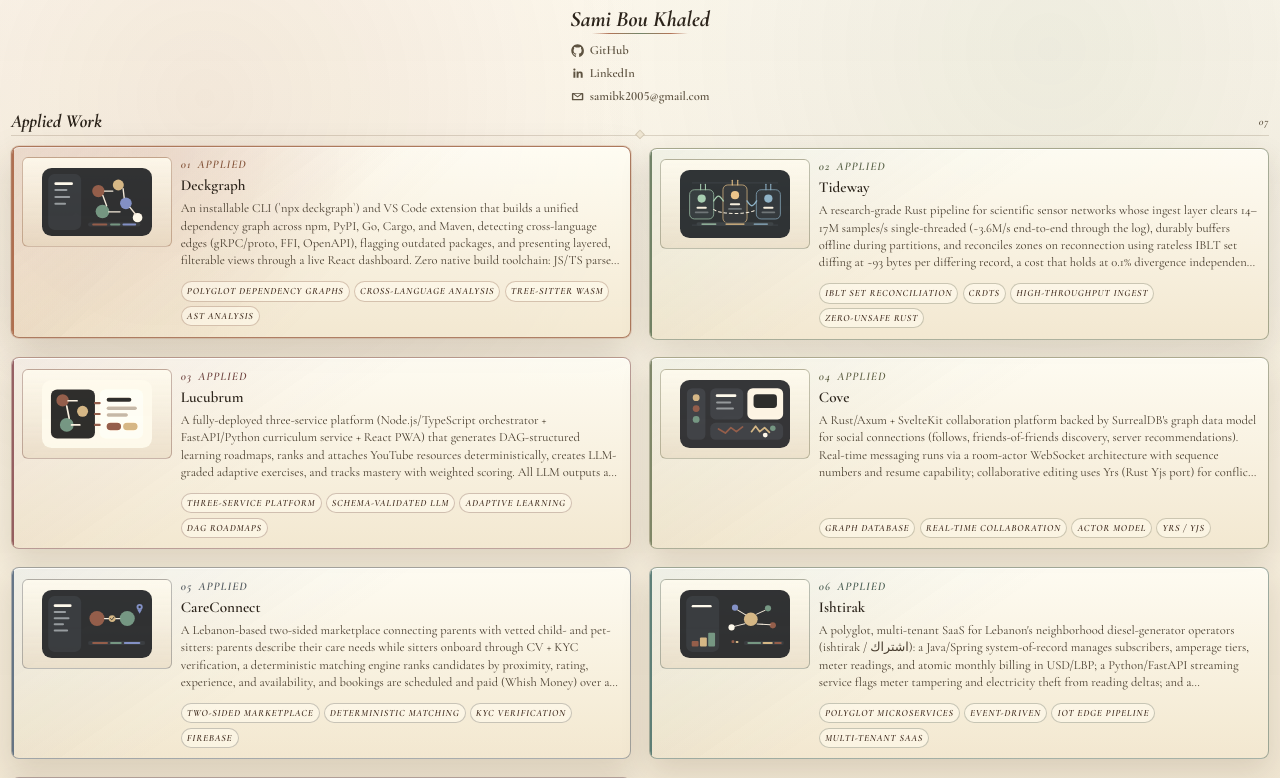
Test: portfolio app › opens Tideway details with repository and demo runbook links
The width and height of the screenshot is (1280, 778).
Click the button "Tideway".
click(959, 244)  # box [649, 148, 1269, 340]
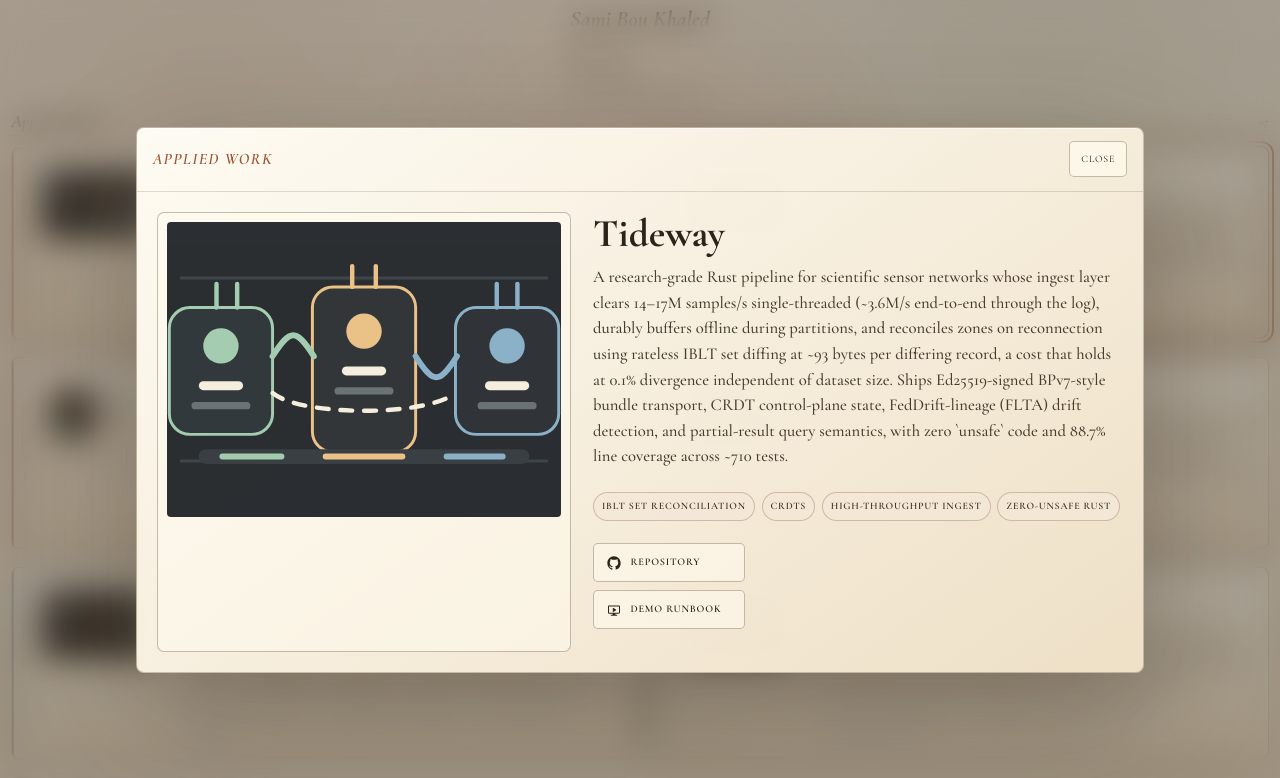
expect the heading "Tideway" is shown: met, box [593, 210, 725, 257]
expect the text "reconciles zones on reconnection" is shown: met, box [593, 267, 1111, 466]
